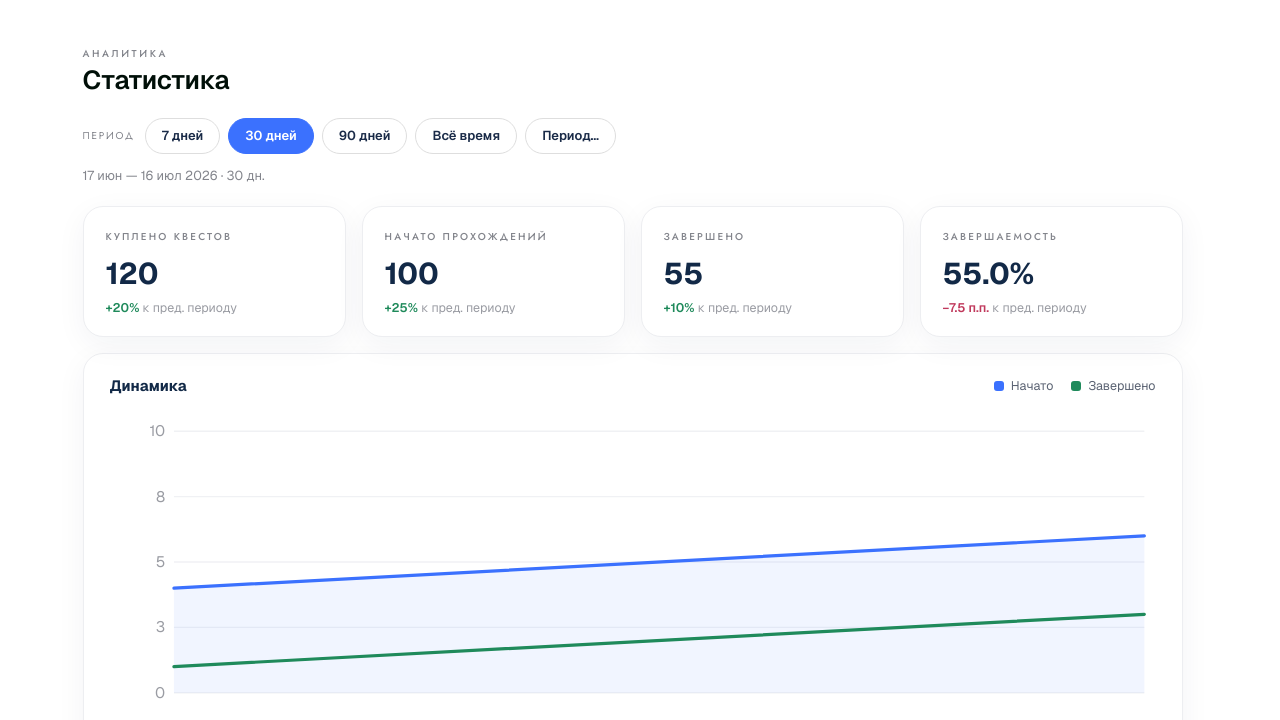
Scenario: AdminStatsPage › «Всё время» re-queries without from and hides deltas
The width and height of the screenshot is (1280, 720).
Expected: the text "Куплено квестов" is shown, [106,229,232,244]
Click the button "Всё время" at (466, 136), box [415,118,517,154]
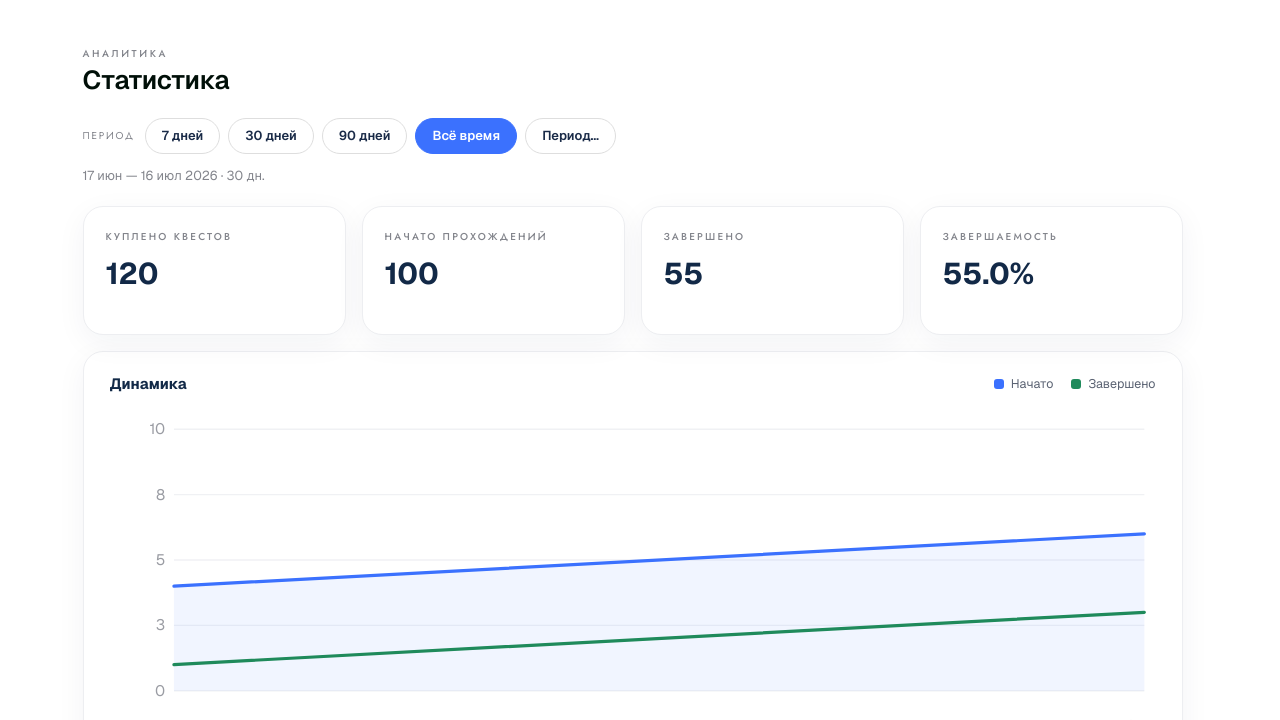
Result: the text "к пред. периоду" is gone
